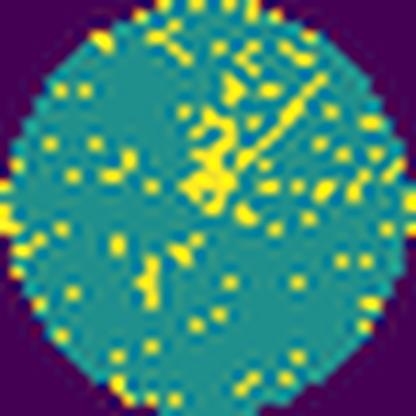Loc: (176, 105, 238, 218)
